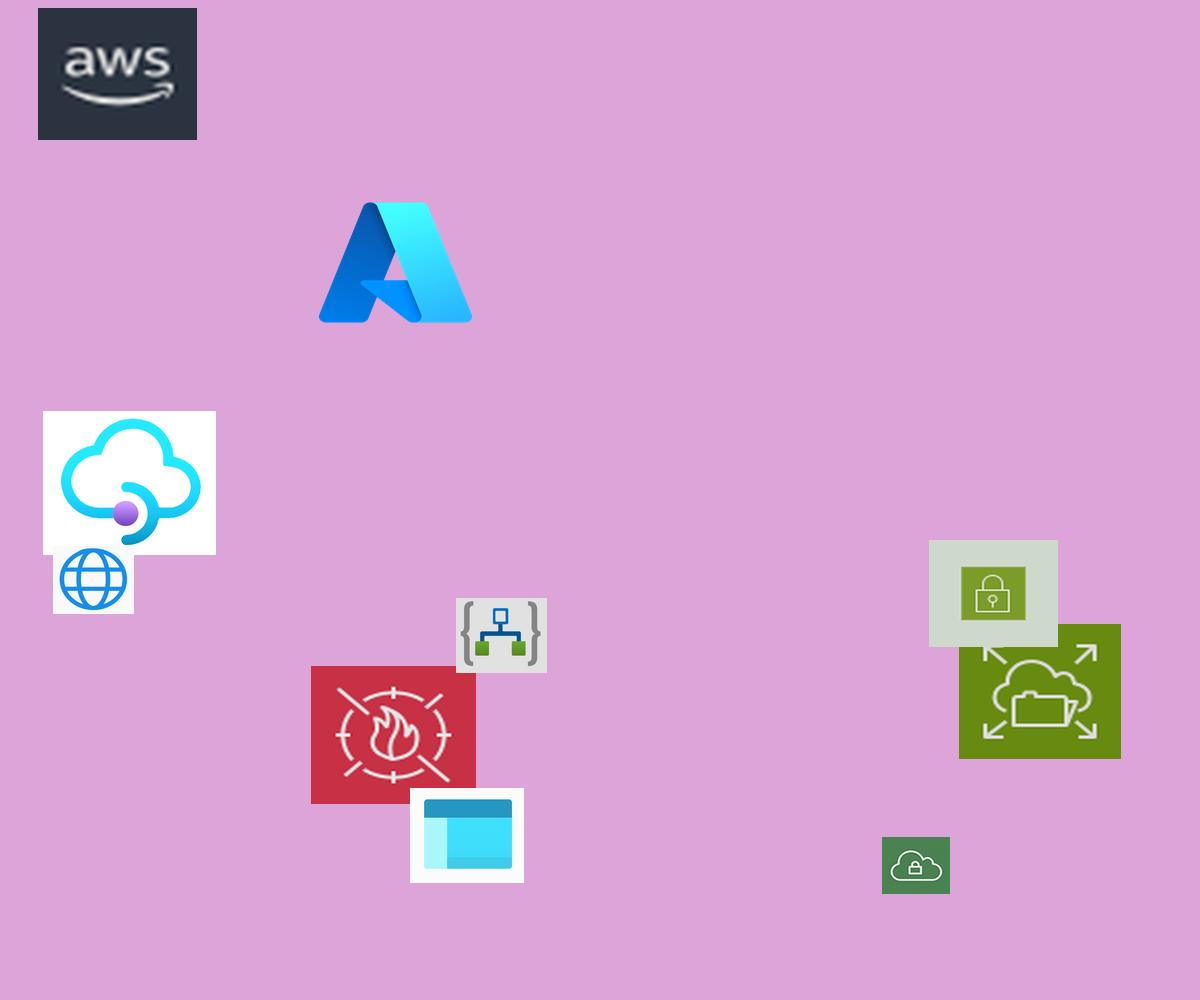AWS-Cloud-logo: (38, 8, 197, 140)
AWS-EFS: (959, 624, 1121, 759)
AWS-Private_vpc: (882, 837, 950, 894)
AWS-Public-subnet: (929, 540, 1058, 647)
AWS-WAF: (311, 666, 476, 804)
Azure_api_gateway: (43, 411, 216, 555)
Azure_http: (53, 546, 134, 614)
Azure_integration-204-Logic-Apps: (456, 598, 547, 673)
Azure_management-portal: (410, 788, 524, 883)
Azure_services: (312, 193, 479, 332)
